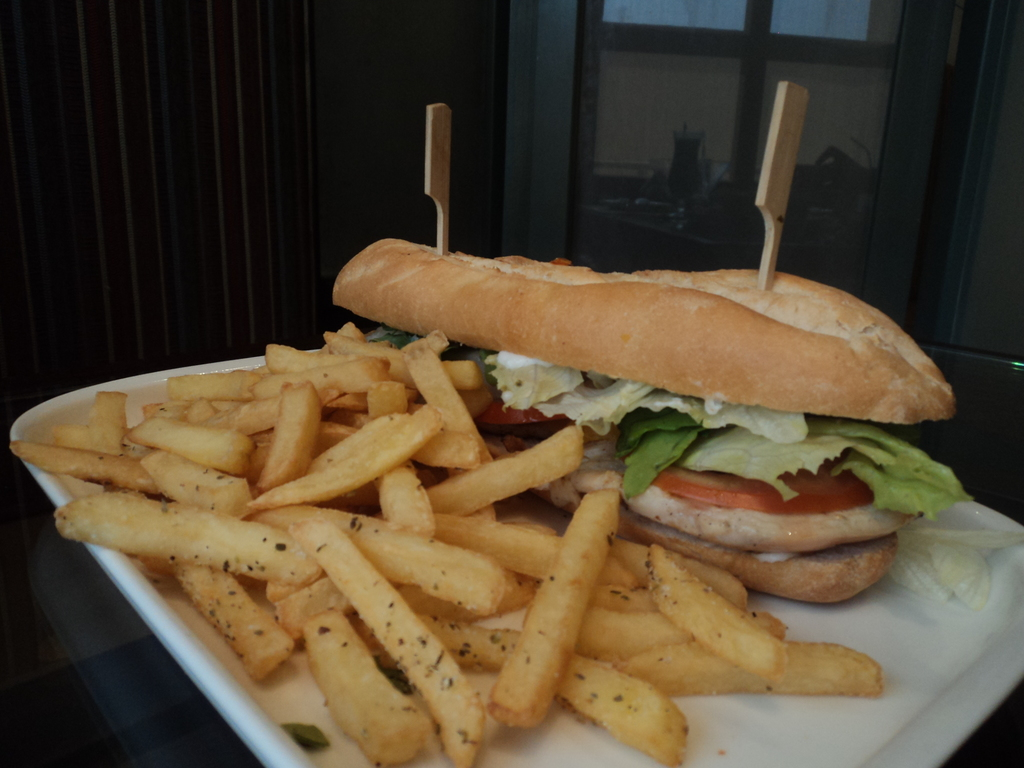French fries: (74, 305, 737, 752)
